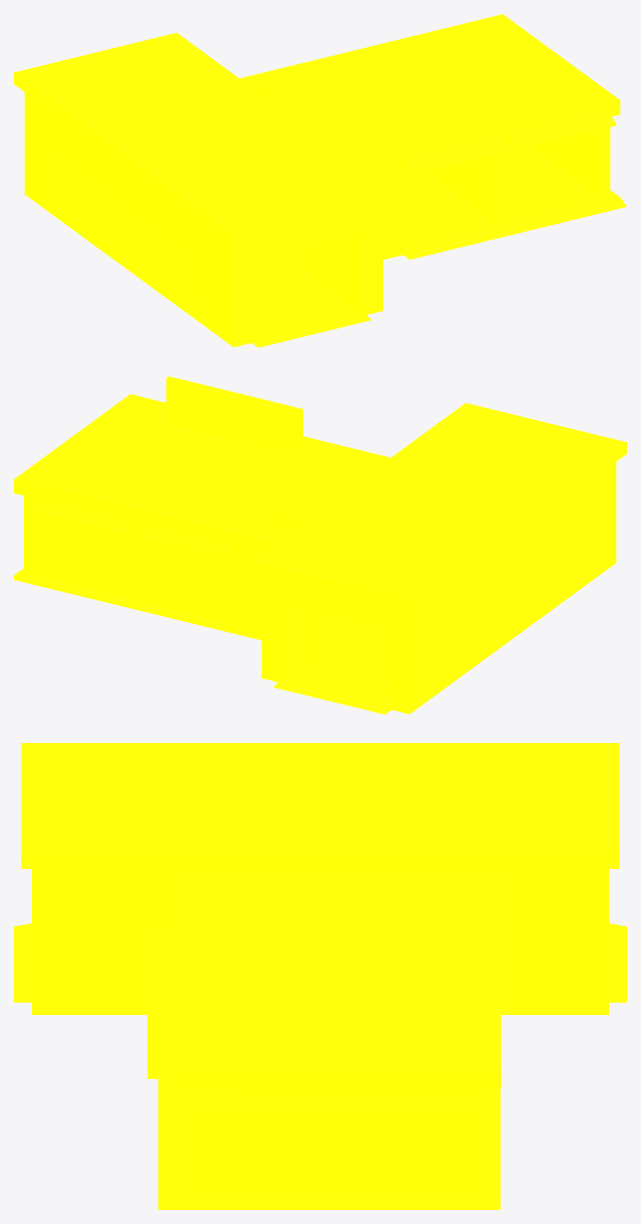
File: building-carwash.glb
The picture shows the model from 3 angles, top to bottom: view 1: azimuth 30°, elevation 25°; view 2: azimuth 150°, elevation 25°; view 3: azimuth 270°, elevation 25°; orthographic projection. The views are drawn at different scales.
Parts seen in each view (by area): view 1: building-carwash; view 2: building-carwash; view 3: building-carwash.
Boxes of the visible parts, <box> form: building-carwash: <box>14,14,626,347</box>; building-carwash: <box>14,376,626,714</box>; building-carwash: <box>14,743,626,1209</box>.
Size of the model in its own units: 19.7 by 6 by 17.
Materials: 1 (1 with a texture image).
